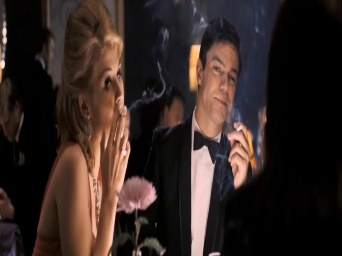smoke: (235, 123, 244, 133), (119, 110, 128, 118)
